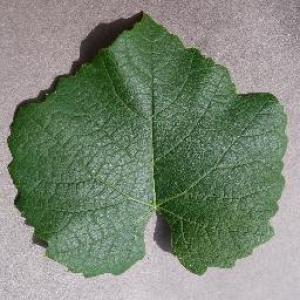Folha: (6, 9, 288, 278)
